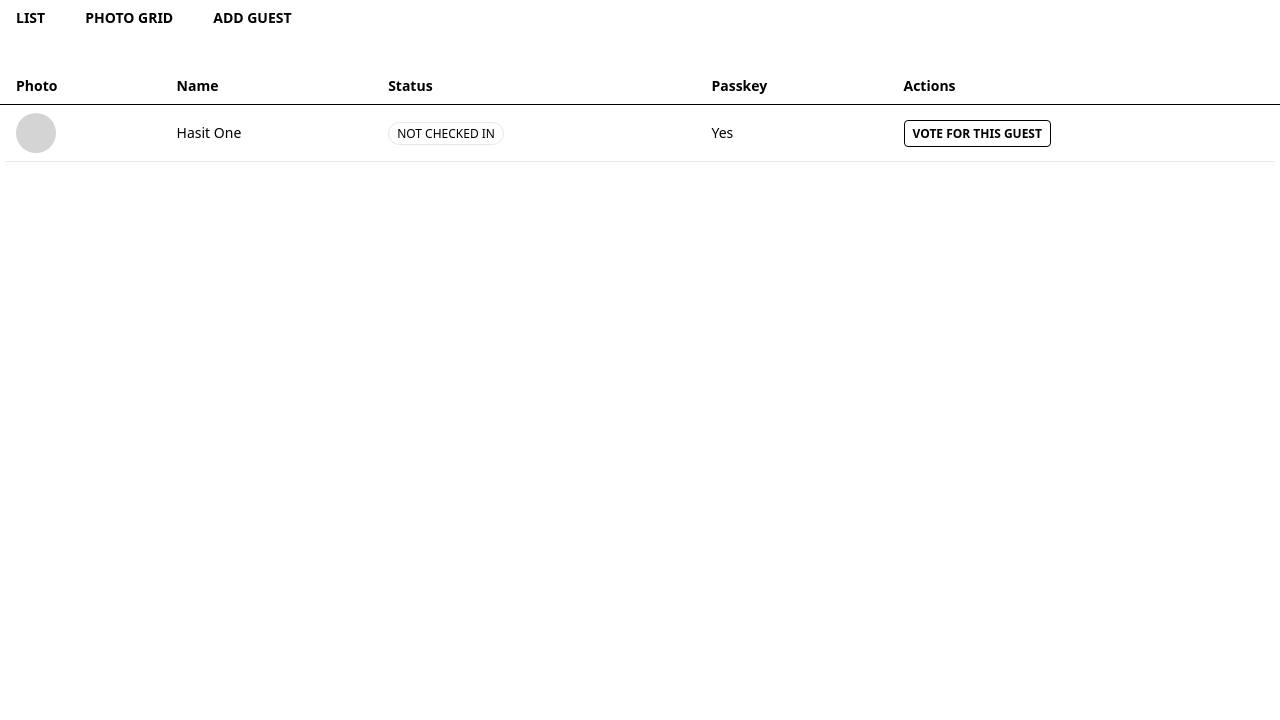
Has passkey indicator › shows the indicator and a Remove Passkey button in the edit modal for a guest who has one
The image size is (1280, 720).
Click the text "Hasit One": (193, 132) x1=160 y1=104 x2=372 y2=162
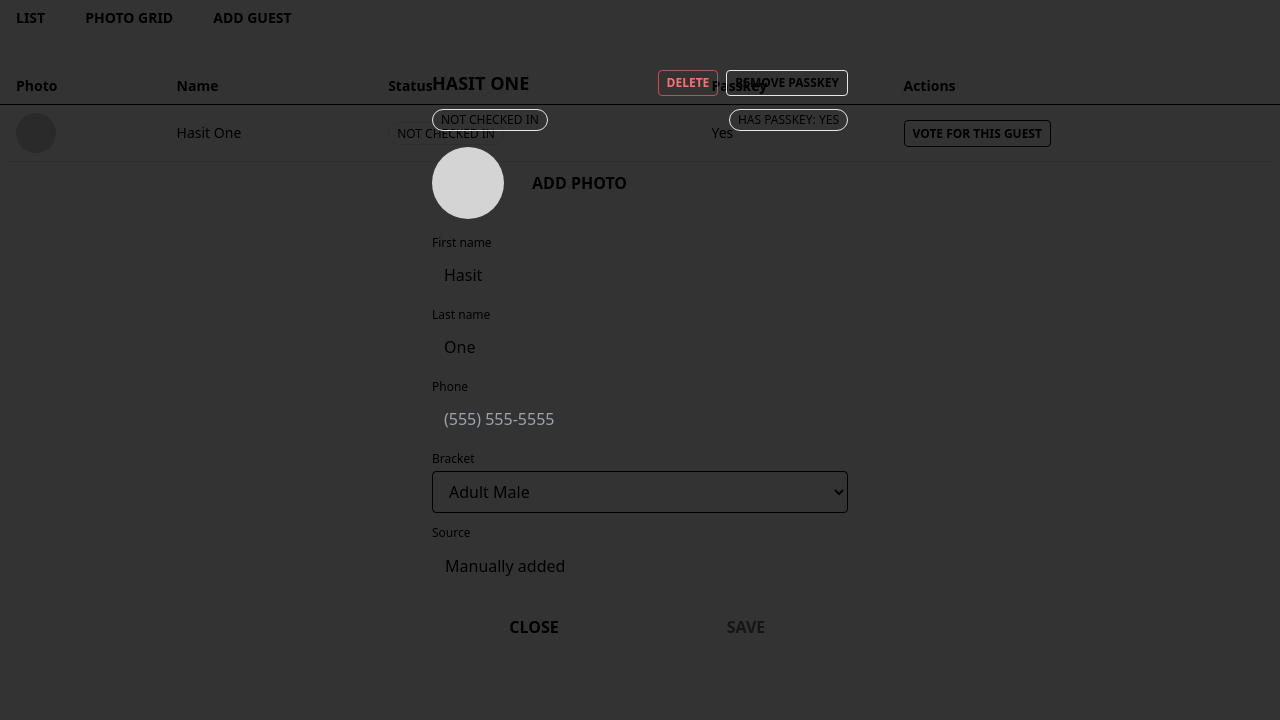
Now the text "Has passkey: Yes" is shown, box x1=729 y1=109 x2=848 y2=131
Now the button "Remove Passkey" is shown, box x1=726 y1=70 x2=848 y2=96
